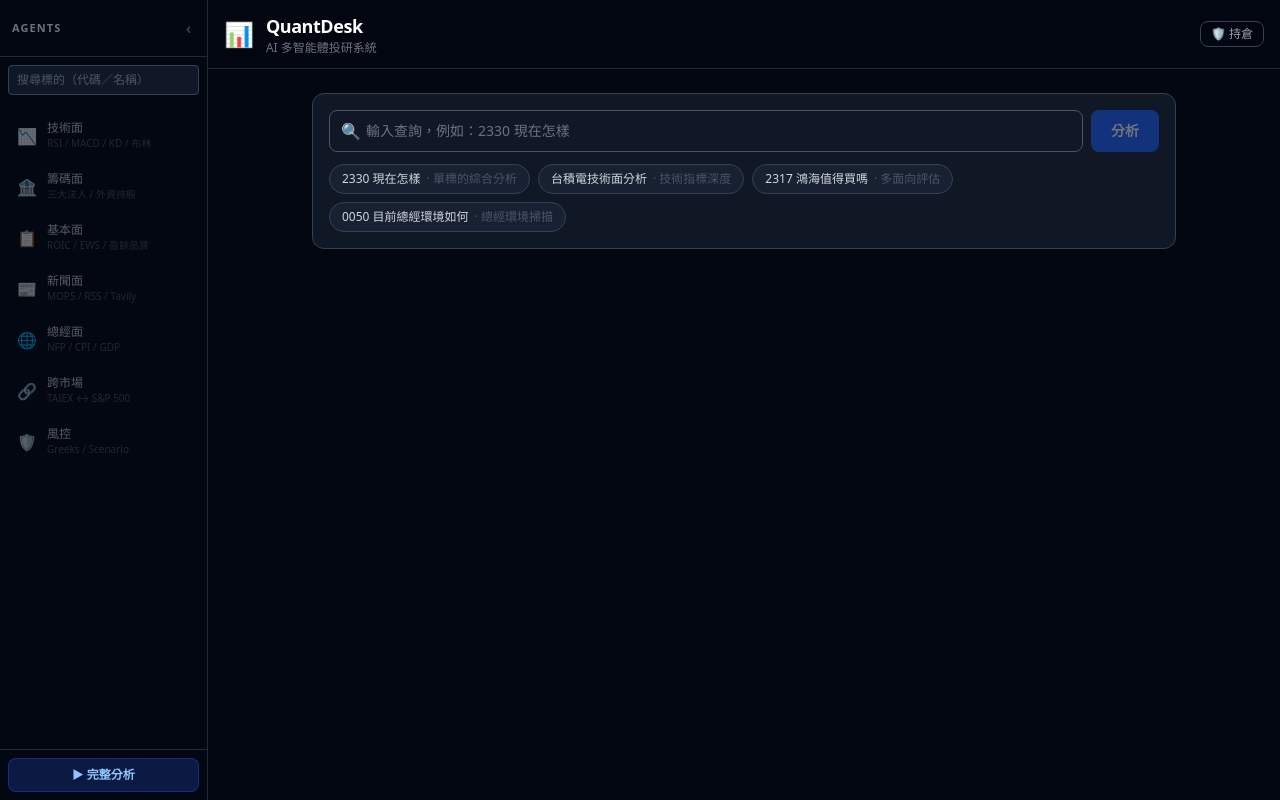
持倉面板 › 可開啟持倉管理
Click the button titled "管理持倉".
click(1232, 34)  # box [1200,21,1264,47]
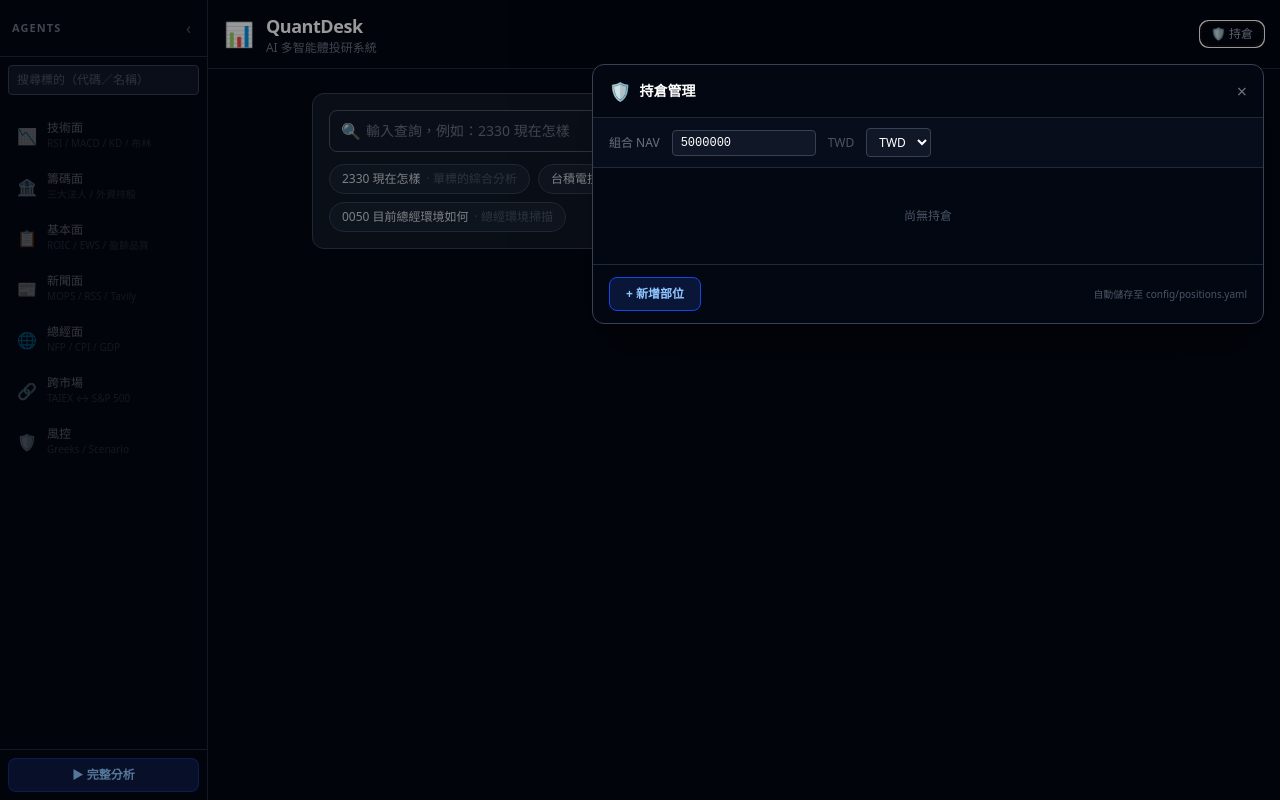
Result: the button "+ 新增部位" is shown at [609,277,701,311]
